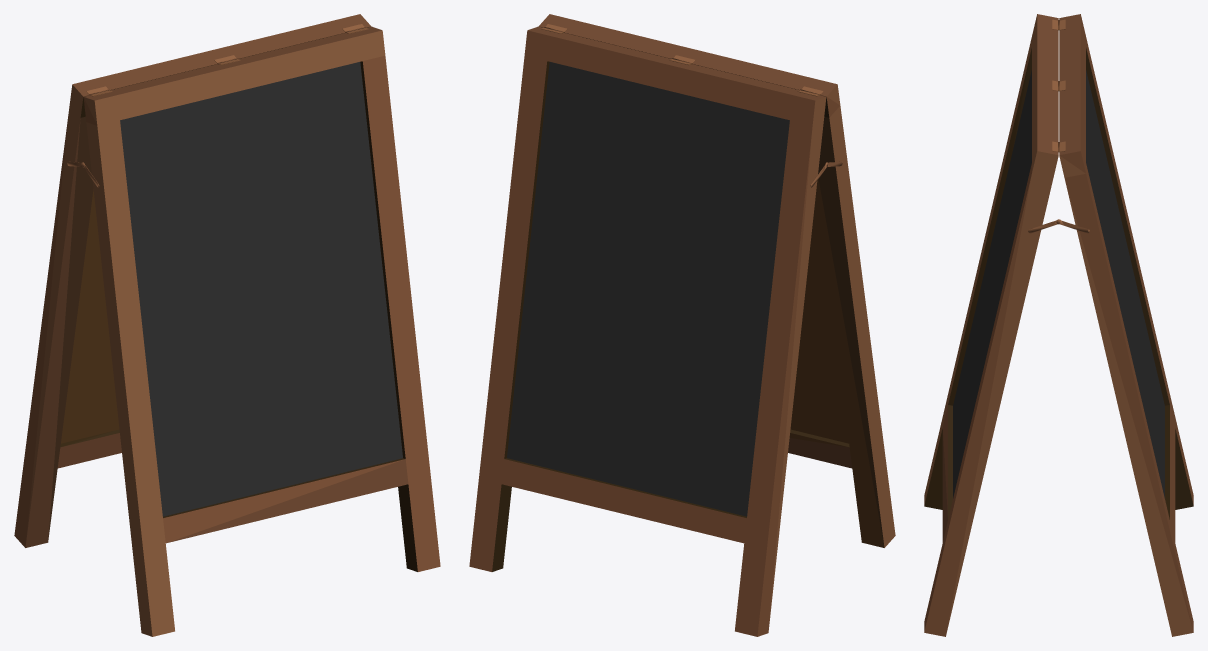
Rendered from standing-chalkboard.glb.
3 views of the same model, side by side, from view 1: azimuth 30°, elevation 25°; view 2: azimuth 150°, elevation 25°; view 3: azimuth 270°, elevation 25° (orthographic). The views are drawn at different scales.
Parts seen in each view (by area): view 1: standing-chalkboard; view 2: standing-chalkboard; view 3: standing-chalkboard.
Boxes of the visible parts, box(x1,y1,x2,y2) form: standing-chalkboard: box(14, 14, 440, 636); standing-chalkboard: box(469, 14, 895, 636); standing-chalkboard: box(924, 14, 1193, 636).
Bounding box in the file's own units: 0.9195 × 1.51 × 0.7587.
